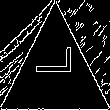L_W: (33, 58, 77, 89)
